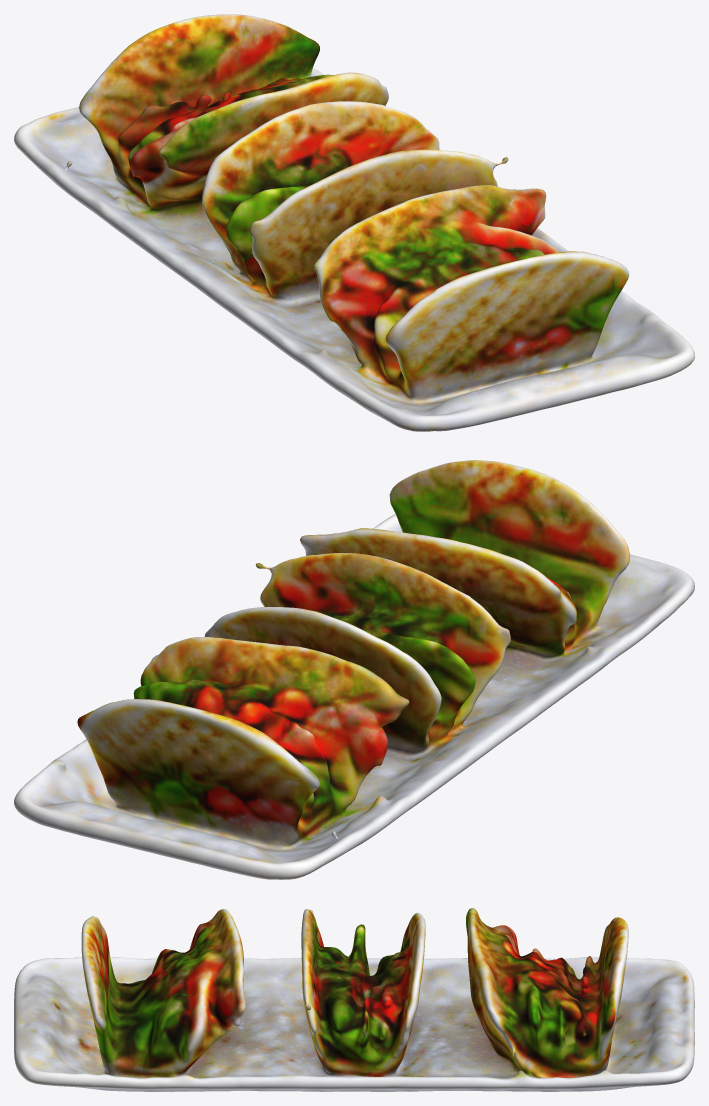
Rendered from 31e013d129bf_1e7e748c5882_Tacos_min.glb.
The picture shows the model from 3 angles, top to bottom: view 1: azimuth 30°, elevation 25°; view 2: azimuth 150°, elevation 25°; view 3: azimuth 270°, elevation 25°; orthographic projection. The views are drawn at different scales.
Parts seen in each view (by area): view 1: high_poly; view 2: high_poly; view 3: high_poly.
Part boxes in pixels (<box>): high_poly: <box>14,14,694,431</box>; high_poly: <box>14,460,694,879</box>; high_poly: <box>14,908,694,1091</box>.
Size of the model in its own units: 0.4309 by 0.2095 by 1.
Materials: 1 (1 with a texture image).
